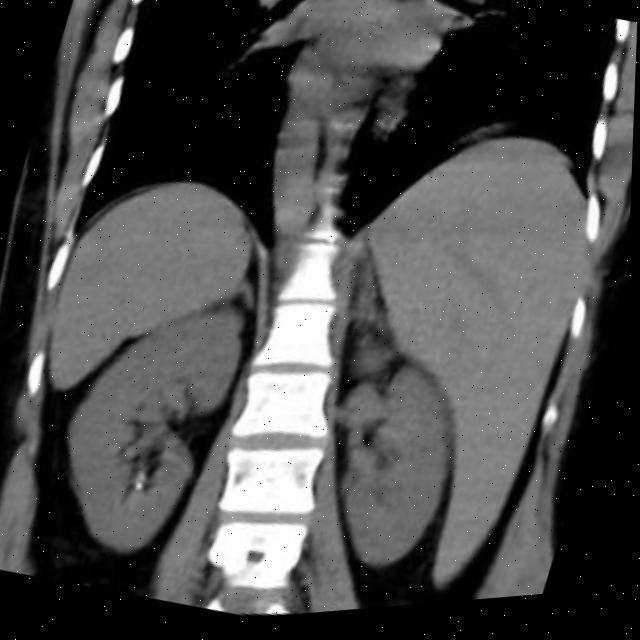Tas_Var: (139, 469, 156, 485), (137, 480, 152, 496)
